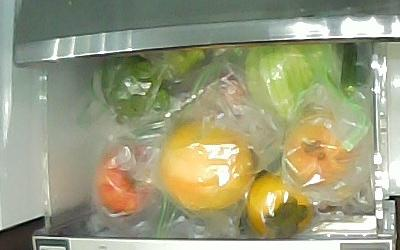apple_vinyl: (96, 144, 154, 215)
broccoli_vinyl: (91, 49, 207, 127)
grapefruit_vinyl: (158, 121, 255, 212)
lettuce_vinyl: (244, 40, 344, 119)
peach_vinyl: (284, 117, 353, 187)
persimmon_vinyl: (246, 170, 316, 235)
